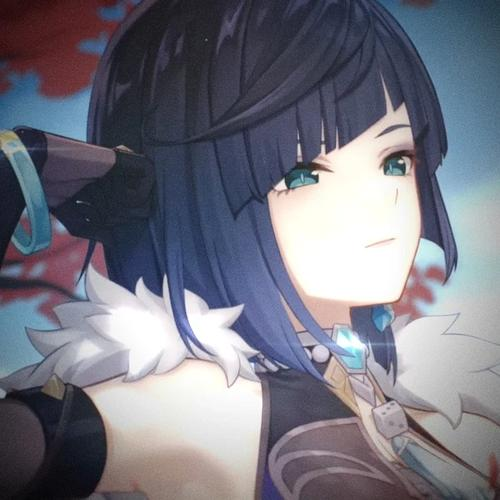夜兰: (1, 5, 498, 497)
